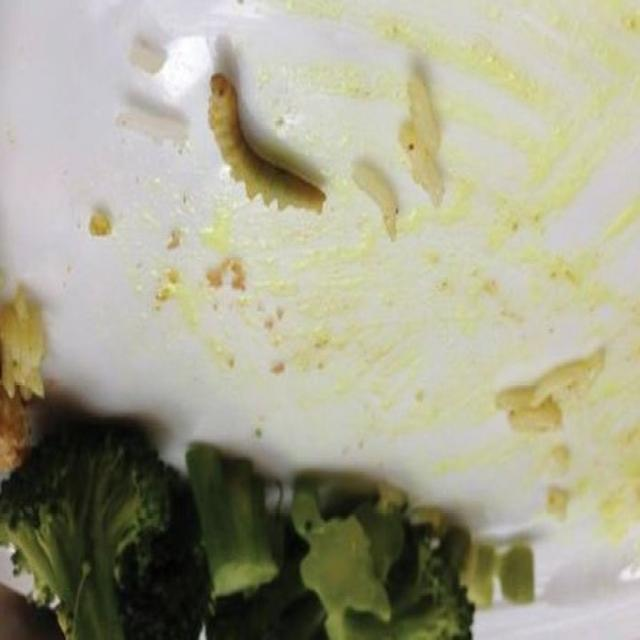worm: (205, 60, 329, 242)
